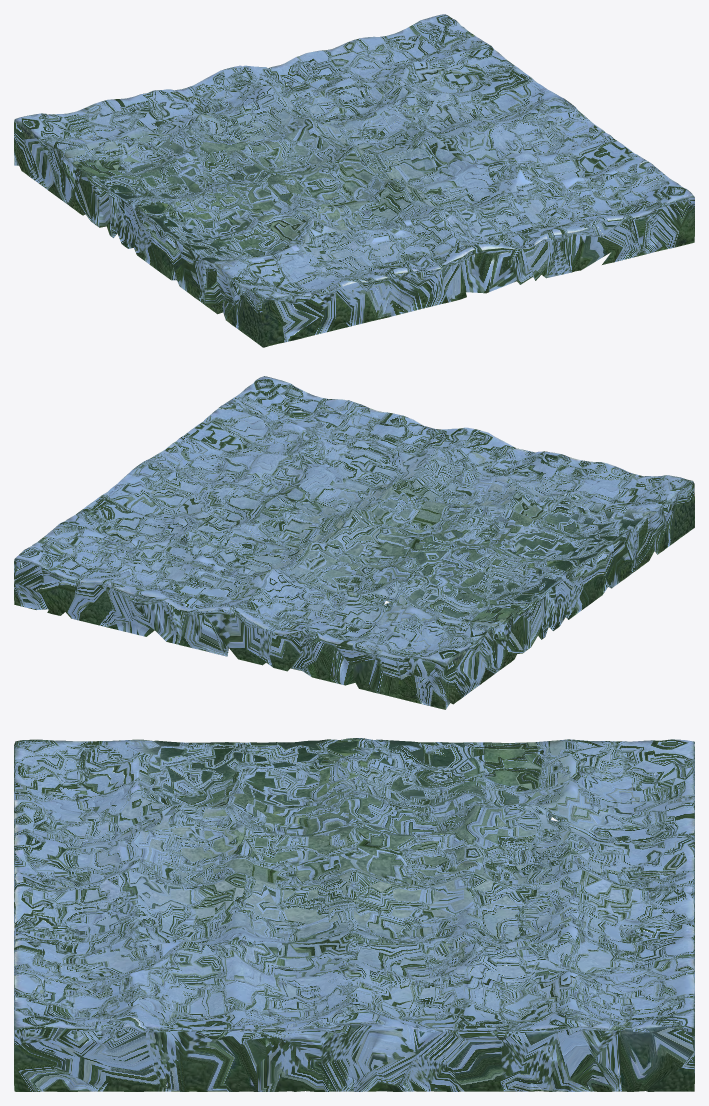
Rendered from range_forest.glb.
The picture shows the model from 3 angles, top to bottom: view 1: azimuth 30°, elevation 25°; view 2: azimuth 150°, elevation 25°; view 3: azimuth 270°, elevation 25°; orthographic projection. The views are drawn at different scales.
Bounding box in the file's own units: 1.9 × 0.243 × 1.9.
Materials: 1 (1 with a texture image).
